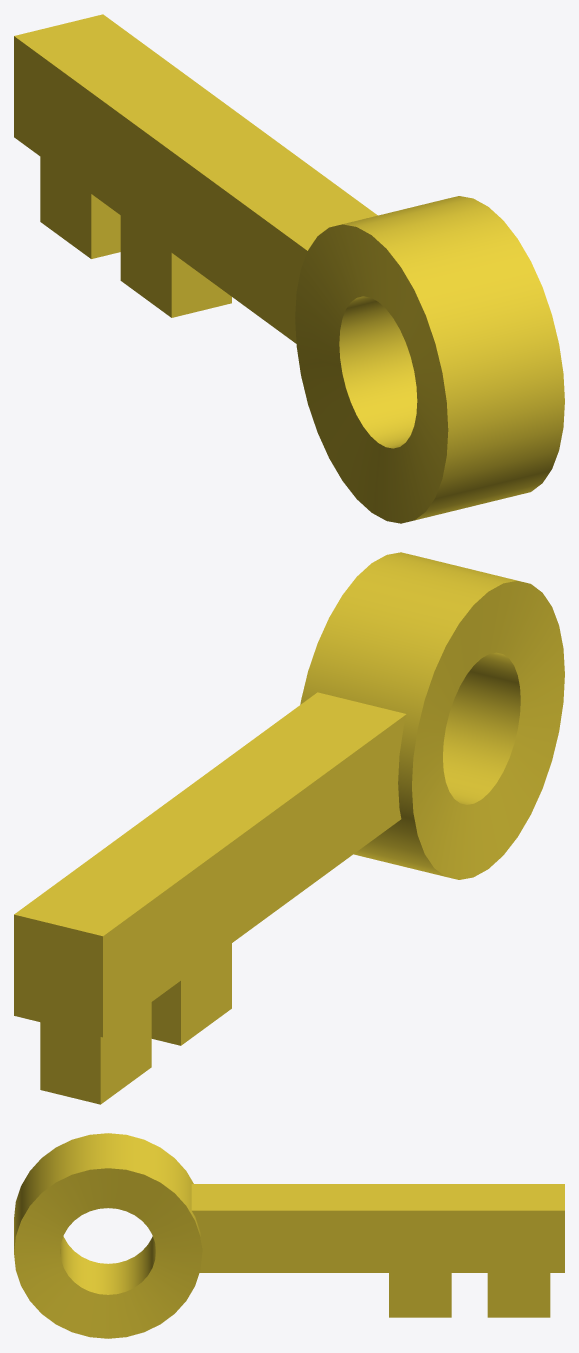
Rendered from key.fbx.
The picture shows the model from 3 angles, top to bottom: view 1: azimuth 30°, elevation 25°; view 2: azimuth 150°, elevation 25°; view 3: azimuth 270°, elevation 25°; orthographic projection. The views are drawn at different scales.
Parts seen in each view (by area): view 1: key.001; view 2: key.001; view 3: key.001.
Boxes of the visible parts, x1,y1,x2,y2 form: key.001: (14,14,564,523); key.001: (14,552,564,1104); key.001: (14,1133,564,1338).
Size of the model in its own units: 16.57 by 37.66 by 110.
